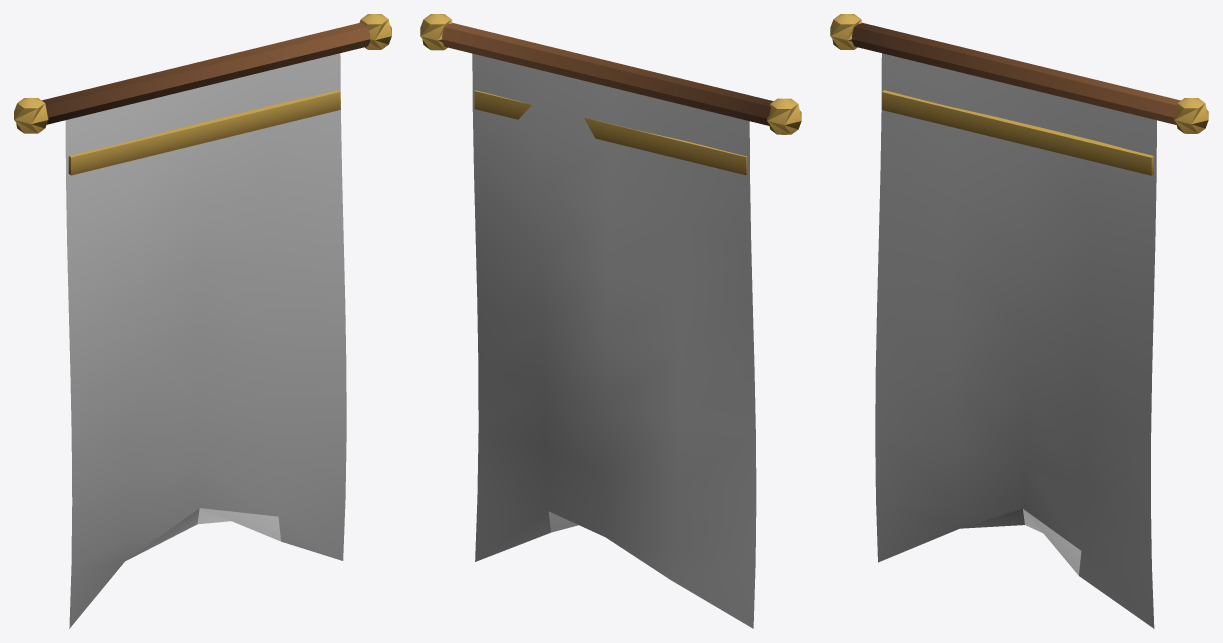
Rendered from hall_banner.glb.
3 views of the same model, side by side, from view 1: azimuth 30°, elevation 25°; view 2: azimuth 150°, elevation 25°; view 3: azimuth 330°, elevation 25° (orthographic).
Parts seen in each view (by area): view 1: hall_banner, hall_banner_trim; view 2: hall_banner, hall_banner_trim; view 3: hall_banner, hall_banner_trim.
Part boxes in pixels (<box>): hall_banner: <box>65,53,346,628</box>; hall_banner_trim: <box>14,14,391,175</box>; hall_banner: <box>472,53,756,628</box>; hall_banner_trim: <box>420,14,801,175</box>; hall_banner: <box>875,53,1156,628</box>; hall_banner_trim: <box>830,14,1208,175</box>.
Bounding box in the file's own units: 0.77 × 1.04 × 0.0659.
